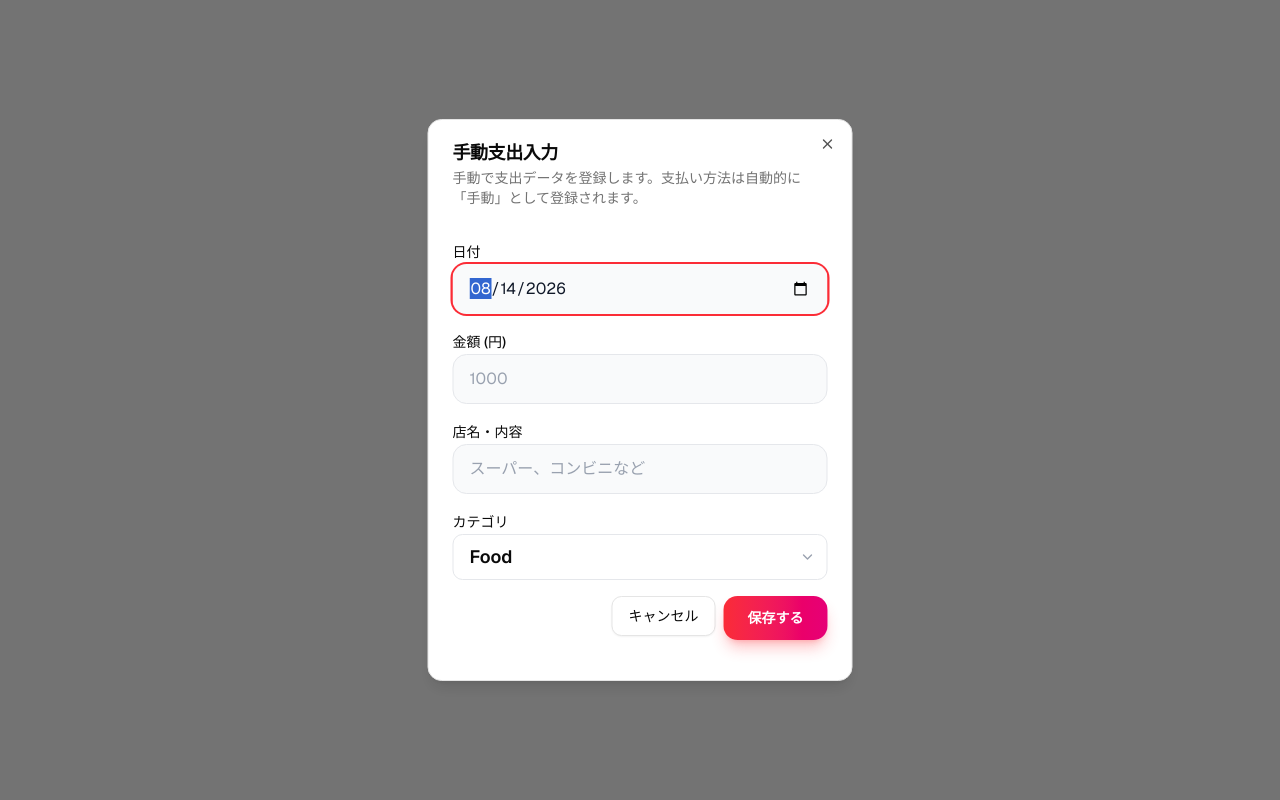
Test: ManualEntryModal › shows error message on API exception
The image size is (1280, 800).
Step 1. Type "100" into the number field labelled "金額 (円)" → (640,379), box [452, 354, 828, 404]
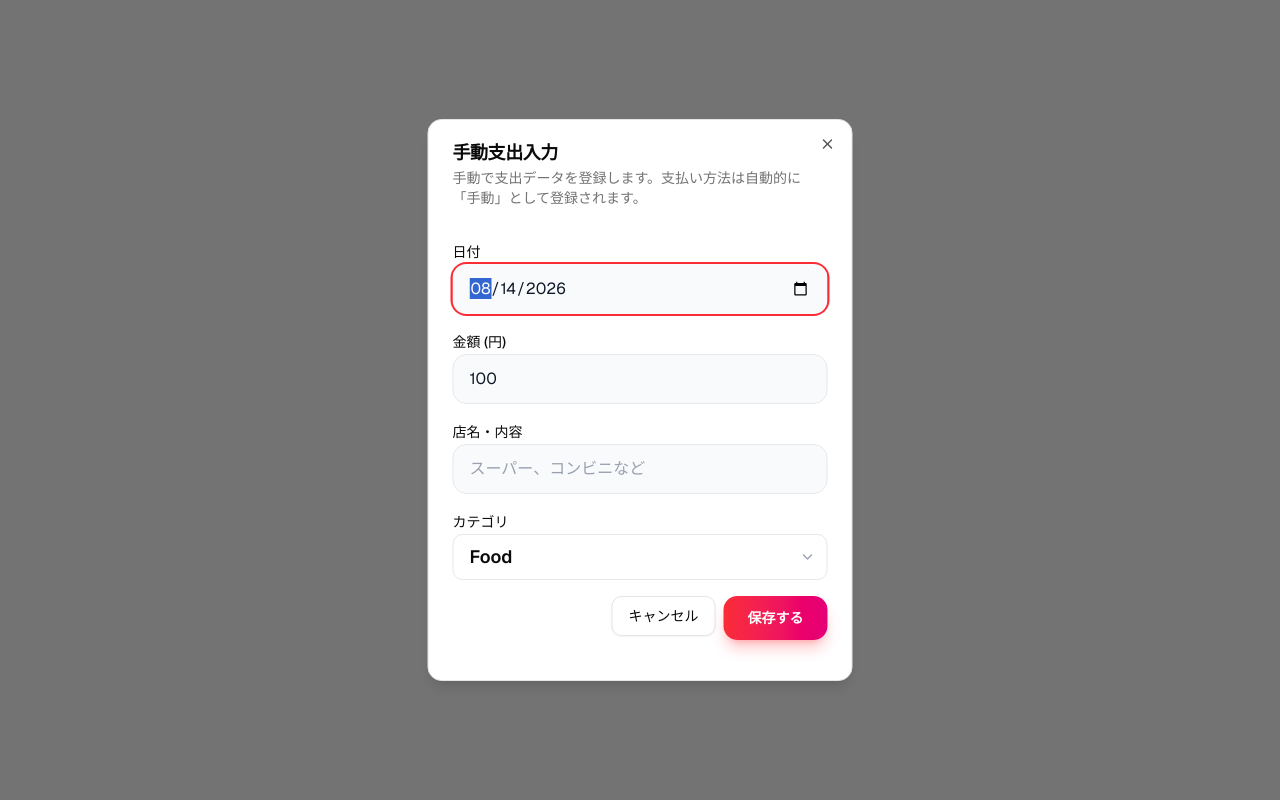
Step 2. Type "Test" into the field labelled "店名・内容" → (640,469), box [452, 444, 828, 494]
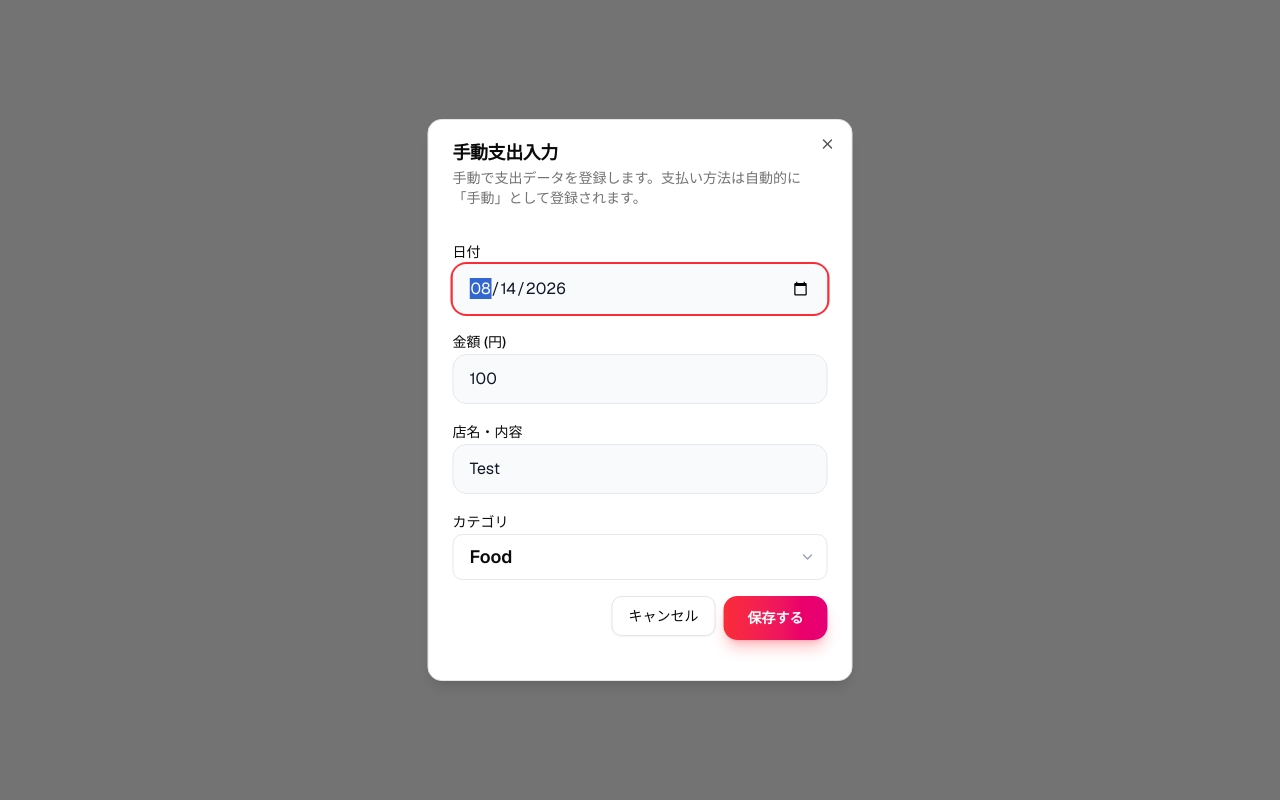
Step 3. Click the button "保存する" → (776,618), box [724, 596, 828, 640]
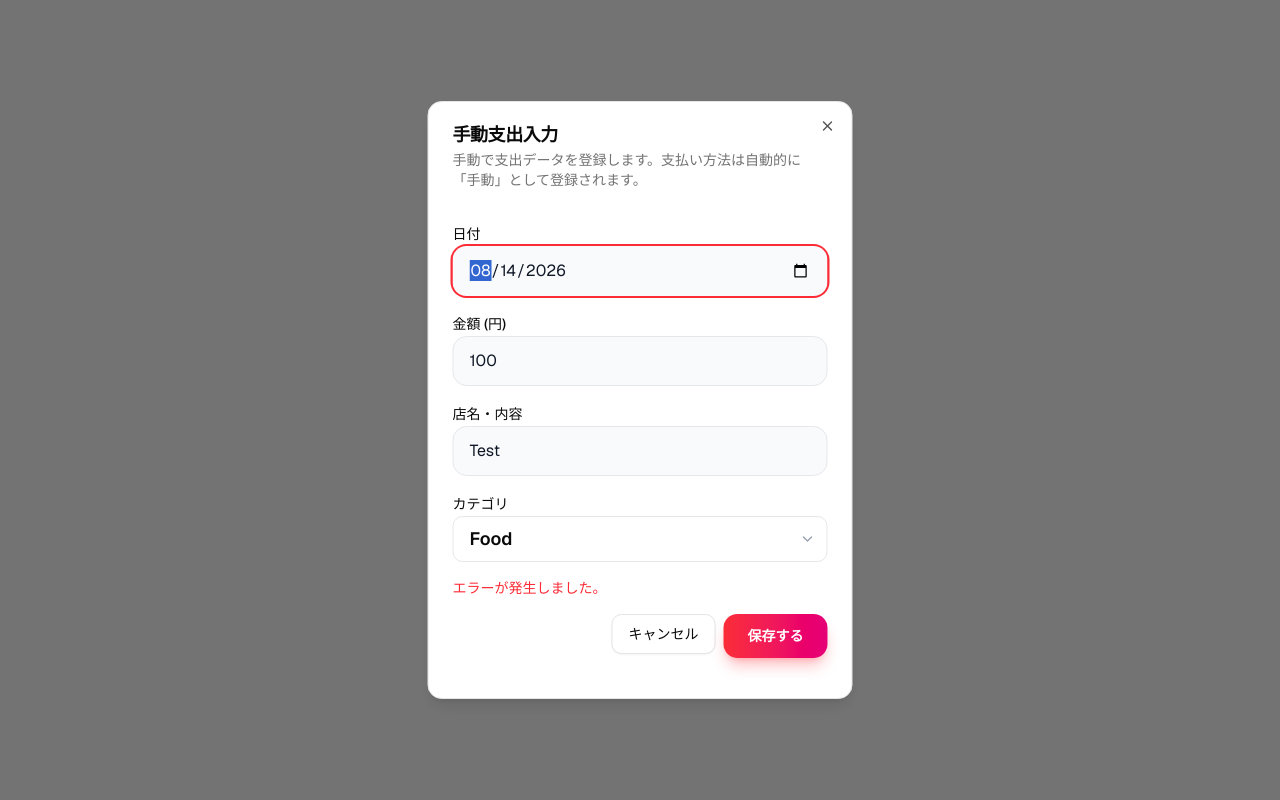
Expected: the text "エラーが発生しました。" is shown, [452, 579, 606, 597]
